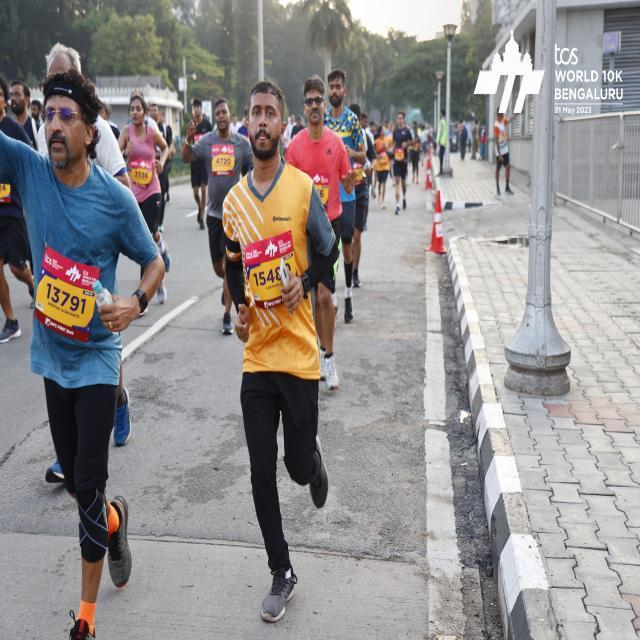dorsal: (36, 245, 94, 338), (239, 244, 306, 308), (211, 141, 236, 178)
